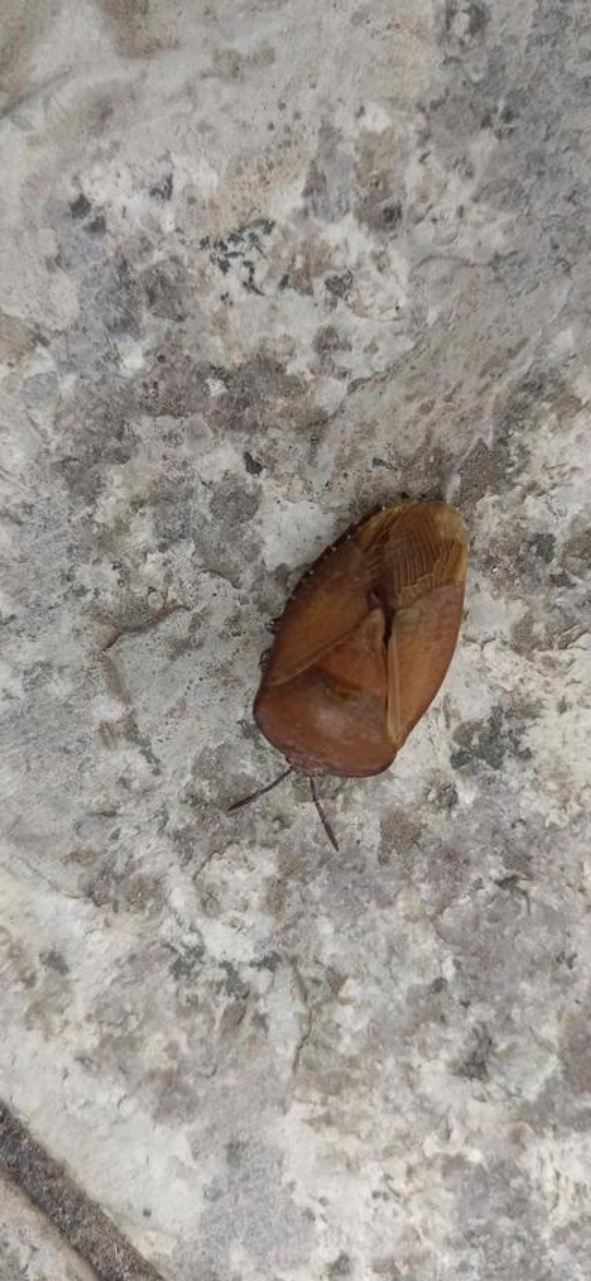Stink_Bug: (273, 489, 473, 800)
